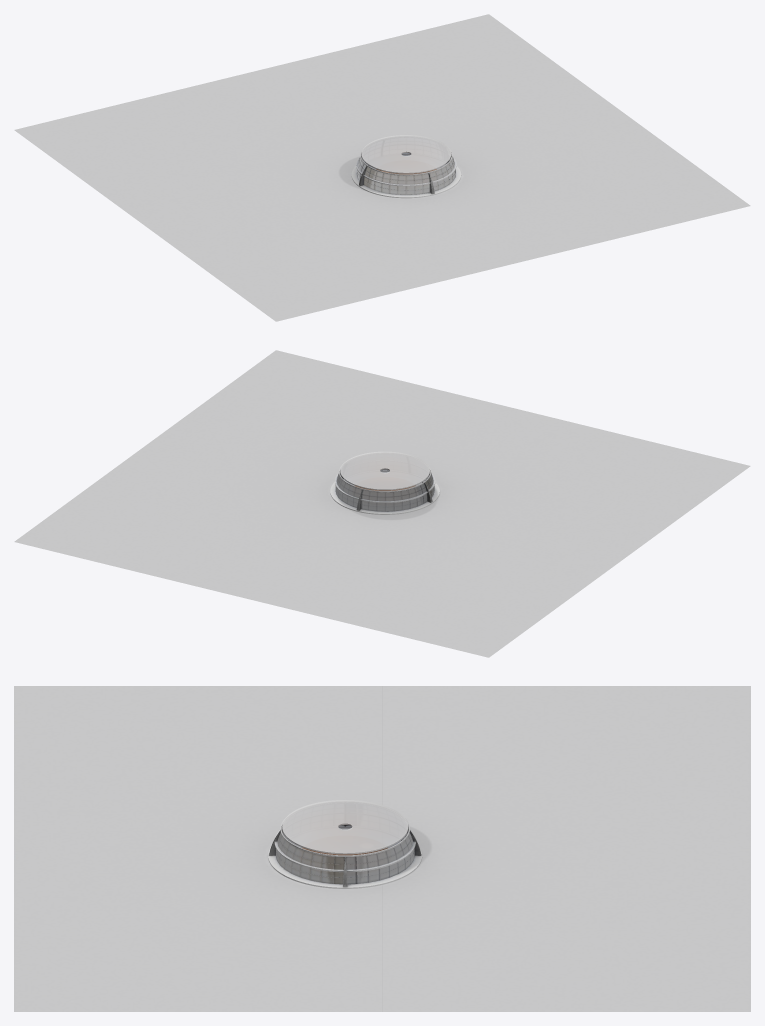
The model's file is circular_showroom-001.glb.
3 views of the same model, one above another, from view 1: azimuth 30°, elevation 25°; view 2: azimuth 150°, elevation 25°; view 3: azimuth 270°, elevation 25° (orthographic). The views are drawn at different scales.
Visible parts, largest first — view 1: Object001_Object001_mtl_0; view 2: Object001_Object001_mtl_0; view 3: Object001_Object001_mtl_0.
Boxes of the visible parts, x1=… form: Object001_Object001_mtl_0: x1=14, y1=14, x2=750, y2=321; Object001_Object001_mtl_0: x1=14, y1=350, x2=750, y2=657; Object001_Object001_mtl_0: x1=14, y1=686, x2=750, y2=1011.
Bounding box in the file's own units: 220 × 9.4 × 210.
Materials: 1 (1 with a texture image).
